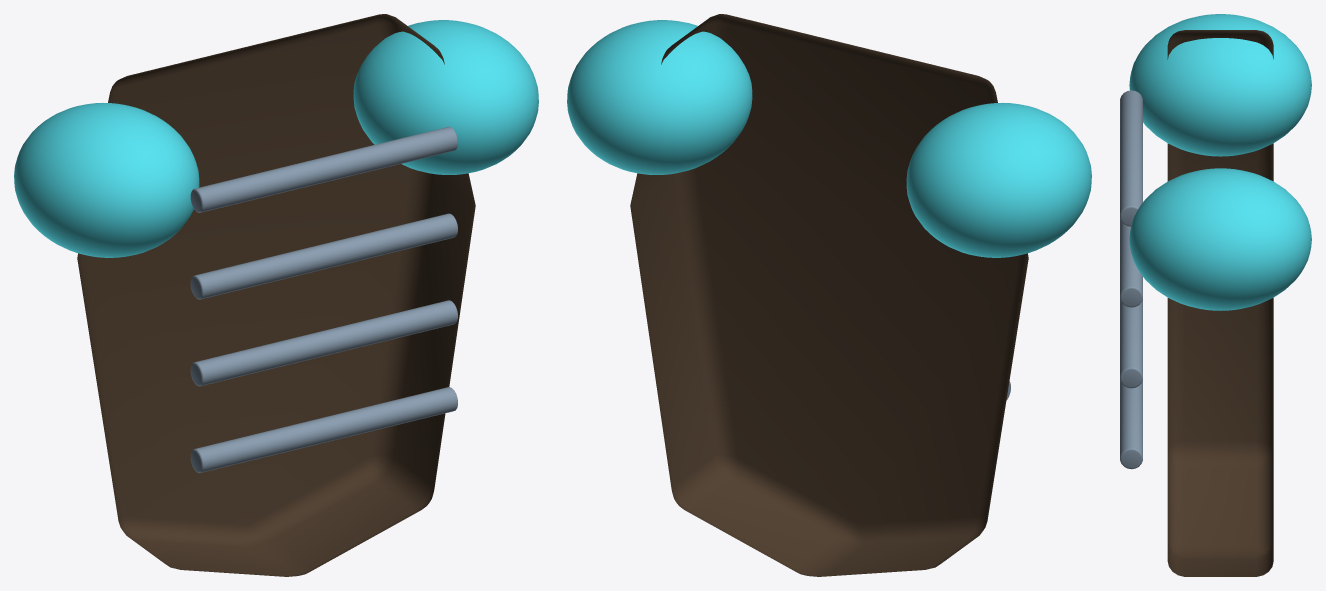
Rendered from cuirass_v7.glb.
The picture shows the model from 3 angles, left to right: view 1: azimuth 30°, elevation 25°; view 2: azimuth 150°, elevation 25°; view 3: azimuth 270°, elevation 25°; orthographic projection. The views are drawn at different scales.
Parts seen in each view (by area): view 1: LEATHER_COAT_SECONDARY, LEATHER_PAULDRON_ACCENT, LEATHER_PAULDRON_ACCENT.001, COAT_STRAP_PRIMARY, COAT_STRAP_PRIMARY.001, COAT_STRAP_PRIMARY.002, COAT_STRAP_PRIMARY.003; view 2: LEATHER_COAT_SECONDARY, LEATHER_PAULDRON_ACCENT, LEATHER_PAULDRON_ACCENT.001; view 3: LEATHER_COAT_SECONDARY, LEATHER_PAULDRON_ACCENT.001, LEATHER_PAULDRON_ACCENT, COAT_STRAP_PRIMARY, COAT_STRAP_PRIMARY.002, COAT_STRAP_PRIMARY.003, COAT_STRAP_PRIMARY.001.
Boxes of the visible parts, x1,y1,x2,y2 form: LEATHER_COAT_SECONDARY: [77, 14, 475, 576]; LEATHER_PAULDRON_ACCENT: [14, 103, 199, 257]; LEATHER_PAULDRON_ACCENT.001: [353, 20, 538, 174]; COAT_STRAP_PRIMARY: [190, 126, 457, 212]; COAT_STRAP_PRIMARY.001: [190, 213, 457, 299]; COAT_STRAP_PRIMARY.002: [190, 300, 457, 386]; COAT_STRAP_PRIMARY.003: [190, 387, 457, 473]; LEATHER_COAT_SECONDARY: [630, 14, 1028, 576]; LEATHER_PAULDRON_ACCENT: [906, 103, 1091, 257]; LEATHER_PAULDRON_ACCENT.001: [567, 20, 752, 174]; LEATHER_COAT_SECONDARY: [1167, 30, 1273, 576]; LEATHER_PAULDRON_ACCENT.001: [1129, 168, 1311, 310]; LEATHER_PAULDRON_ACCENT: [1129, 14, 1311, 156]; COAT_STRAP_PRIMARY: [1120, 90, 1142, 226]; COAT_STRAP_PRIMARY.002: [1120, 299, 1142, 388]; COAT_STRAP_PRIMARY.003: [1120, 380, 1142, 469]; COAT_STRAP_PRIMARY.001: [1120, 218, 1142, 307].
Bounding box in the file's own units: 2.52 × 2.42 × 0.9042.
